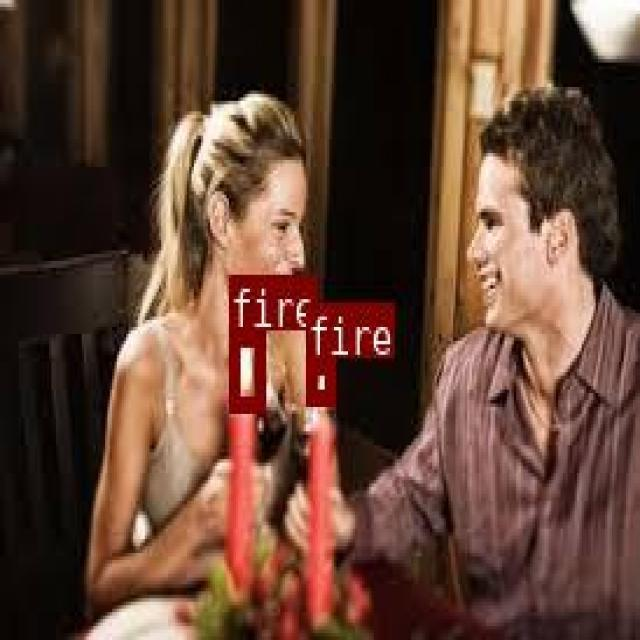fire: (227, 329, 264, 409), (305, 358, 333, 402)
